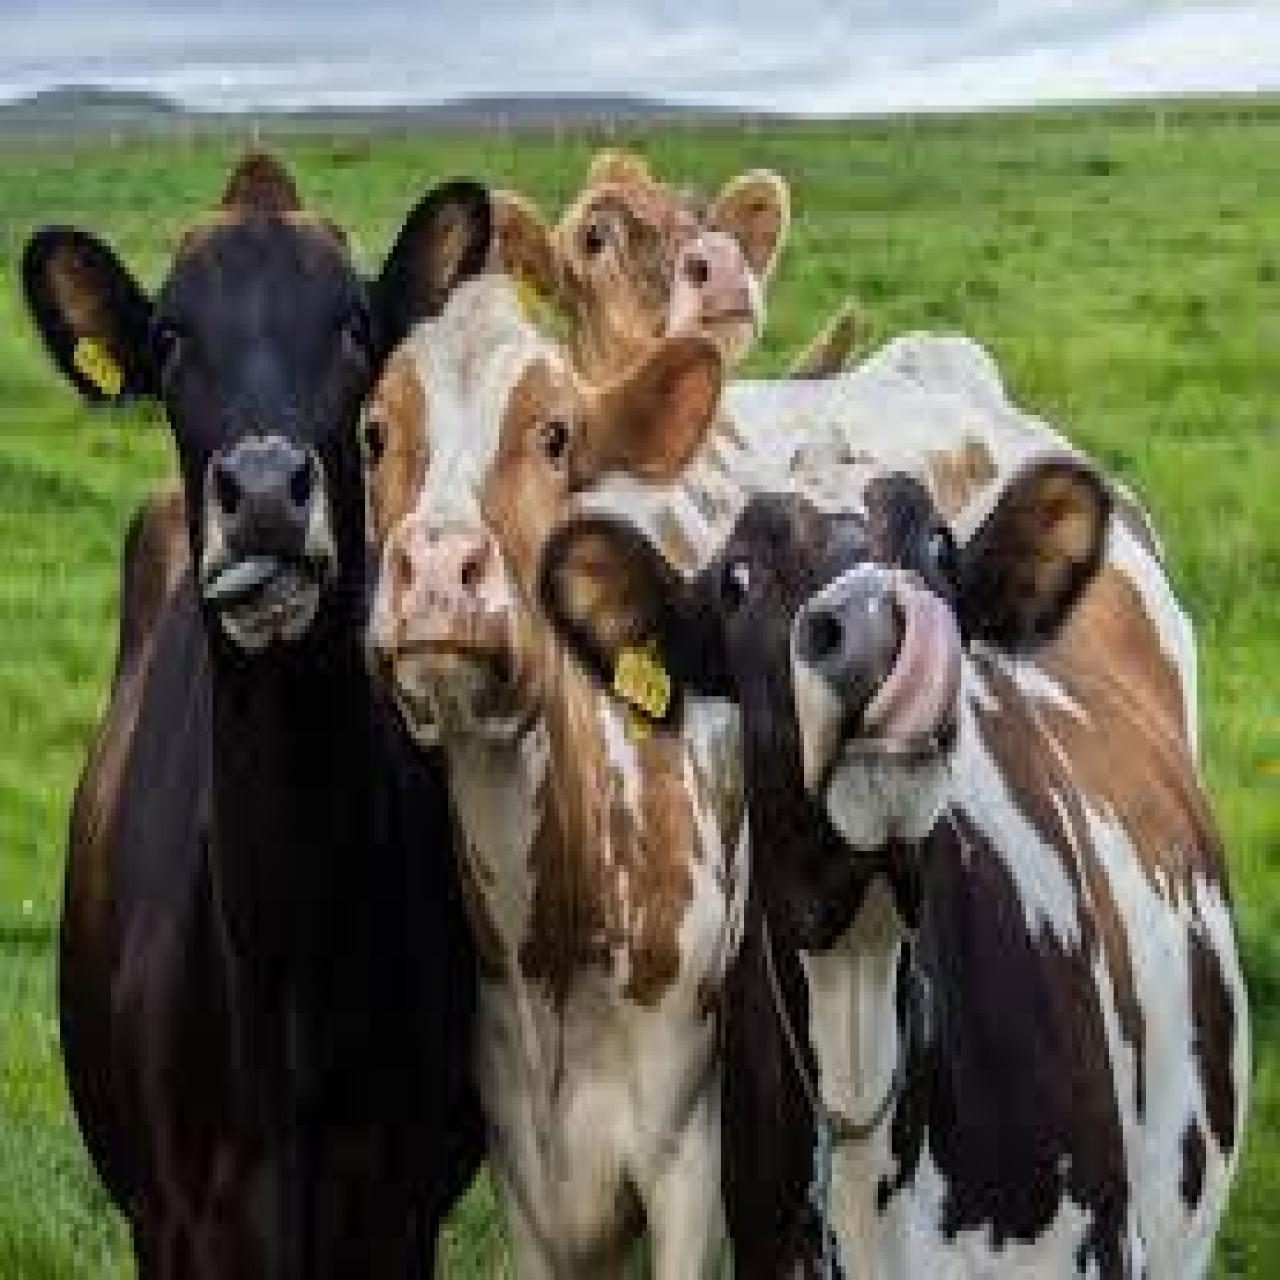cow: (356, 274, 1003, 1280), (535, 443, 1250, 1280), (18, 147, 493, 1280), (488, 141, 792, 387)
